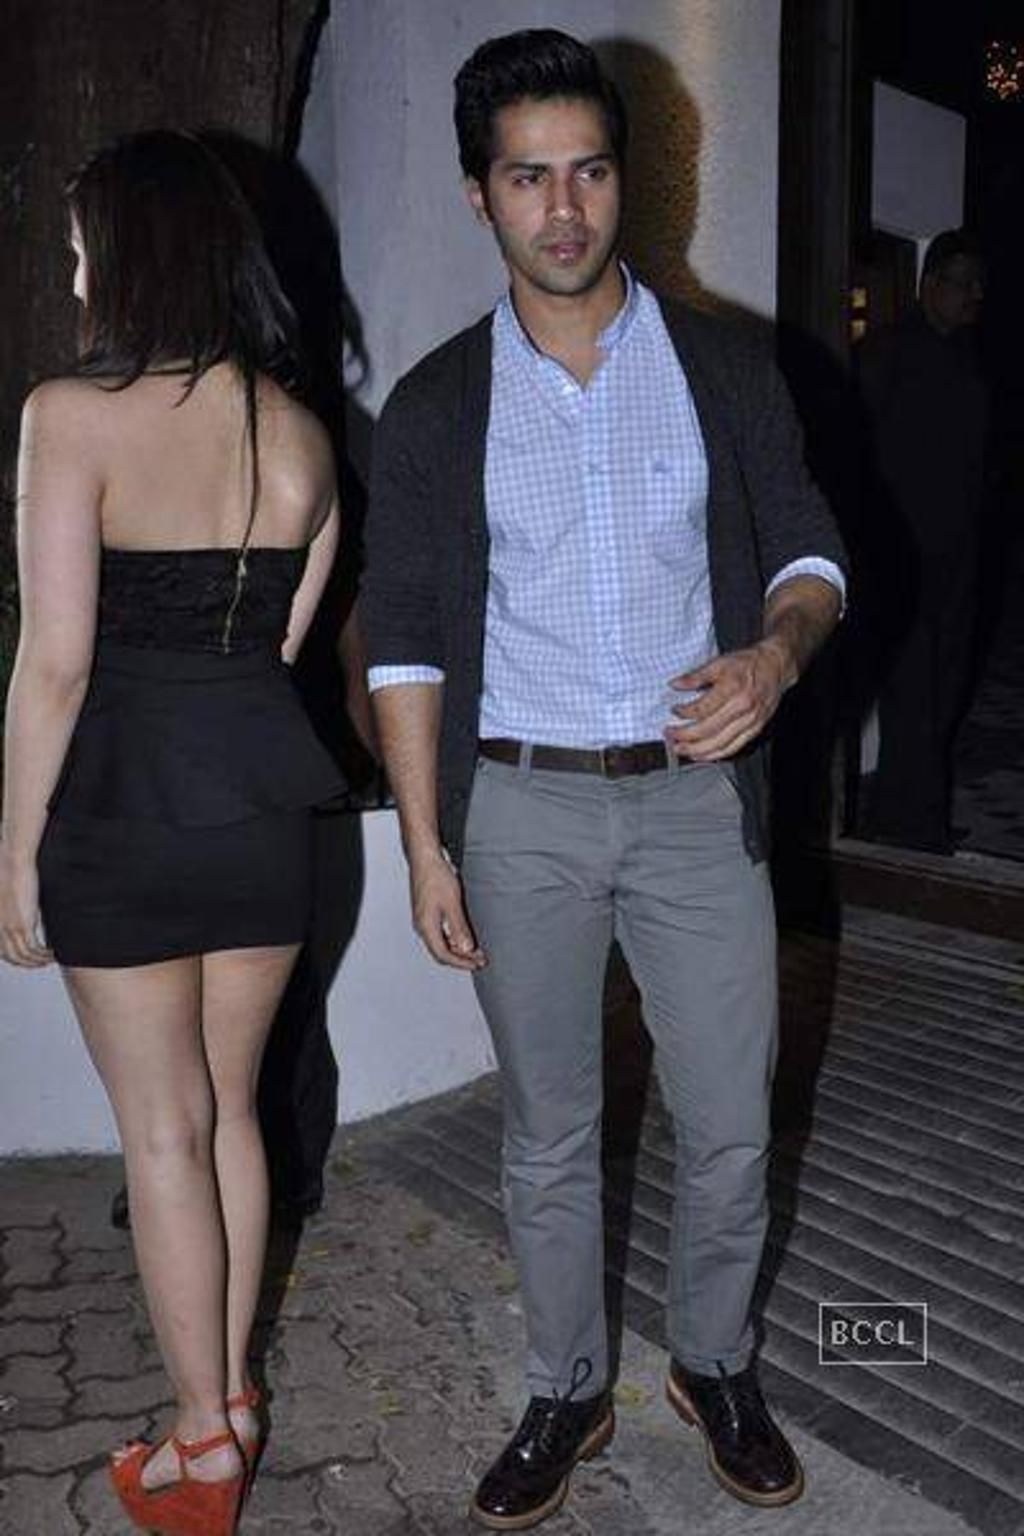face: (487, 100, 619, 289)
